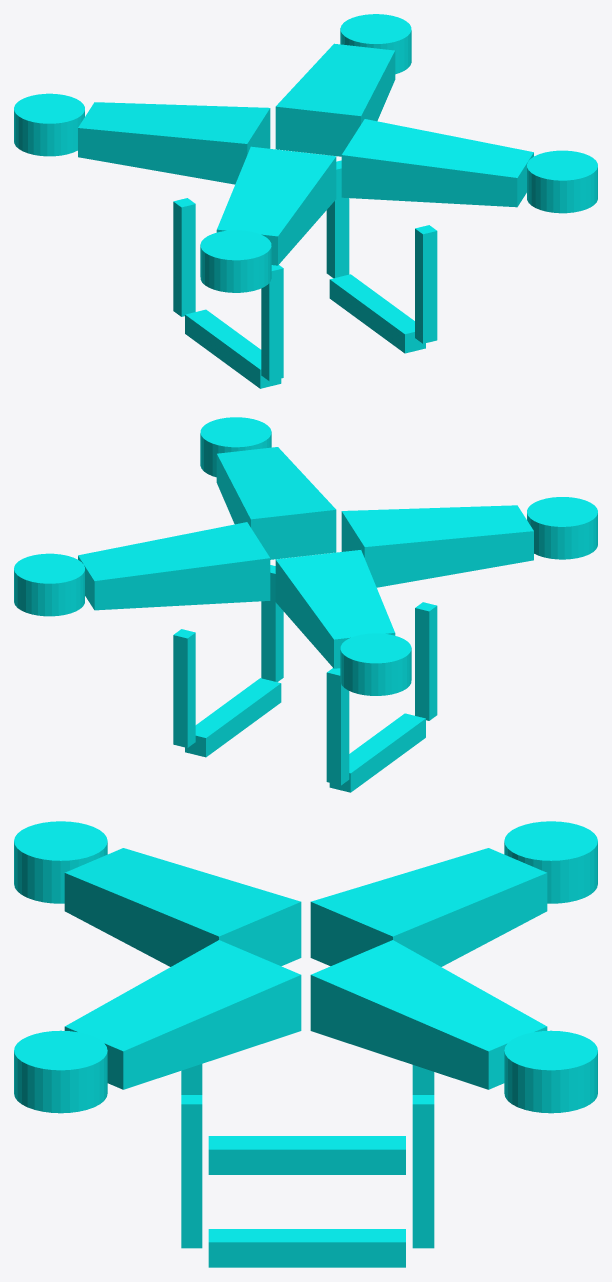
Rendered from DroneFrame_Collider.fbx.
3 renders of one model, top to bottom at view 1: azimuth 30°, elevation 25°; view 2: azimuth 150°, elevation 25°; view 3: azimuth 270°, elevation 25°, orthographic. The views are drawn at different scales.
Parts seen in each view (by area): view 1: DroneFrame_Collider.06, DroneFrame_Collider.08, DroneFrame_Collider.05, DroneFrame_Collider.07, DroneFrame_Collider.01, DroneFrame_Collider.03, DroneFrame_Collider.02, DroneFrame_Collider.10, DroneFrame_Collider.13, DroneFrame_Collider.11, DroneFrame_Collider.14, DroneFrame_Collider.04 (+2 smaller); view 2: DroneFrame_Collider.05, DroneFrame_Collider.07, DroneFrame_Collider.06, DroneFrame_Collider.08, DroneFrame_Collider.02, DroneFrame_Collider.04, DroneFrame_Collider.01, DroneFrame_Collider.10, DroneFrame_Collider.13, DroneFrame_Collider.09, DroneFrame_Collider.12, DroneFrame_Collider.03 (+2 smaller); view 3: DroneFrame_Collider.05, DroneFrame_Collider.06, DroneFrame_Collider.07, DroneFrame_Collider.08, DroneFrame_Collider.10, DroneFrame_Collider.13, DroneFrame_Collider.03, DroneFrame_Collider.04, DroneFrame_Collider.01, DroneFrame_Collider.02, DroneFrame_Collider.09, DroneFrame_Collider.11 (+2 smaller).
Boxes of the visible parts, x1=… form: DroneFrame_Collider.06: x1=341, y1=119, x2=533, y2=207; DroneFrame_Collider.08: x1=78, y1=102, x2=270, y2=184; DroneFrame_Collider.05: x1=275, y1=43, x2=395, y2=156; DroneFrame_Collider.07: x1=216, y1=146, x2=336, y2=265; DroneFrame_Collider.01: x1=200, y1=230, x2=271, y2=292; DroneFrame_Collider.03: x1=527, y1=150, x2=597, y2=213; DroneFrame_Collider.02: x1=14, y1=93, x2=84, y2=156; DroneFrame_Collider.10: x1=329, y1=274, x2=425, y2=353; DroneFrame_Collider.13: x1=185, y1=309, x2=281, y2=388; DroneFrame_Collider.11: x1=415, y1=225, x2=437, y2=343; DroneFrame_Collider.14: x1=173, y1=198, x2=195, y2=316; DroneFrame_Collider.04: x1=340, y1=14, x2=411, y2=74; DroneFrame_Collider.05: x1=78, y1=522, x2=270, y2=610; DroneFrame_Collider.07: x1=341, y1=505, x2=533, y2=587; DroneFrame_Collider.06: x1=216, y1=447, x2=336, y2=559; DroneFrame_Collider.08: x1=275, y1=550, x2=395, y2=668; DroneFrame_Collider.02: x1=340, y1=633, x2=411, y2=695; DroneFrame_Collider.04: x1=14, y1=553, x2=84, y2=616; DroneFrame_Collider.01: x1=527, y1=497, x2=597, y2=559; DroneFrame_Collider.10: x1=185, y1=678, x2=281, y2=757; DroneFrame_Collider.13: x1=329, y1=713, x2=425, y2=792; DroneFrame_Collider.09: x1=173, y1=629, x2=195, y2=747; DroneFrame_Collider.12: x1=415, y1=602, x2=437, y2=720; DroneFrame_Collider.03: x1=200, y1=417, x2=271, y2=477; DroneFrame_Collider.05: x1=310, y1=940, x2=547, y2=1089; DroneFrame_Collider.06: x1=64, y1=940, x2=301, y2=1089; DroneFrame_Collider.07: x1=64, y1=848, x2=301, y2=966; DroneFrame_Collider.08: x1=310, y1=848, x2=547, y2=966; DroneFrame_Collider.10: x1=208, y1=1229, x2=405, y2=1267; DroneFrame_Collider.13: x1=208, y1=1136, x2=405, y2=1174; DroneFrame_Collider.03: x1=14, y1=1030, x2=107, y2=1113; DroneFrame_Collider.04: x1=504, y1=1030, x2=597, y2=1113; DroneFrame_Collider.01: x1=14, y1=821, x2=107, y2=903; DroneFrame_Collider.02: x1=504, y1=821, x2=597, y2=903; DroneFrame_Collider.09: x1=412, y1=1095, x2=434, y2=1248; DroneFrame_Collider.11: x1=181, y1=1095, x2=202, y2=1248.
Bounding box in the file's own units: 50.34 × 26.04 × 49.89.
